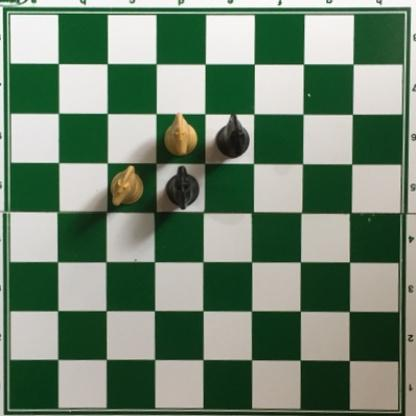black-knight: (215, 112, 251, 159), (165, 165, 201, 211)
white-knight: (161, 111, 197, 157), (109, 163, 143, 208)
